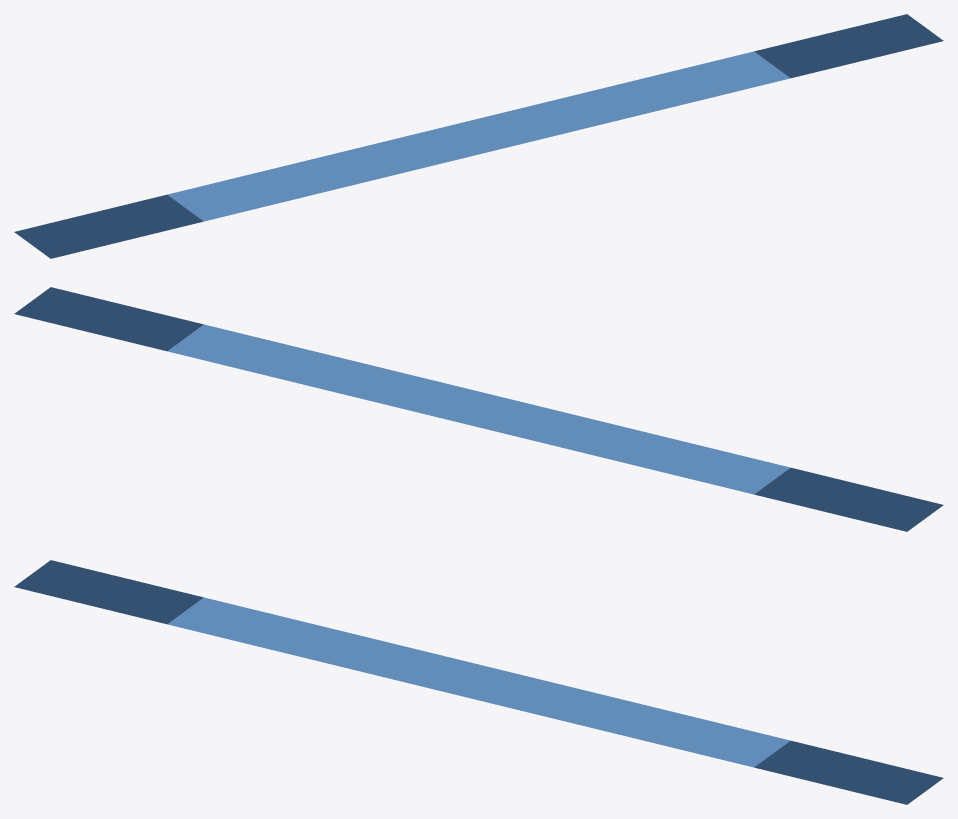
The model's file is M_FloorCross700x50Blue100-3.fbx.
3 renders of one model, top to bottom at view 1: azimuth 30°, elevation 25°; view 2: azimuth 150°, elevation 25°; view 3: azimuth 330°, elevation 25°, orthographic.
Parts seen in each view (by area): view 1: M_FloorCross700x50Blue100-3; view 2: M_FloorCross700x50Blue100-3; view 3: M_FloorCross700x50Blue100-3.
Boxes of the visible parts, bbox=[...] form: M_FloorCross700x50Blue100-3: bbox=[14, 14, 943, 258]; M_FloorCross700x50Blue100-3: bbox=[14, 287, 943, 531]; M_FloorCross700x50Blue100-3: bbox=[14, 560, 943, 804].
Size of the model in its own units: 700 by 50 by 1.05e-22.
